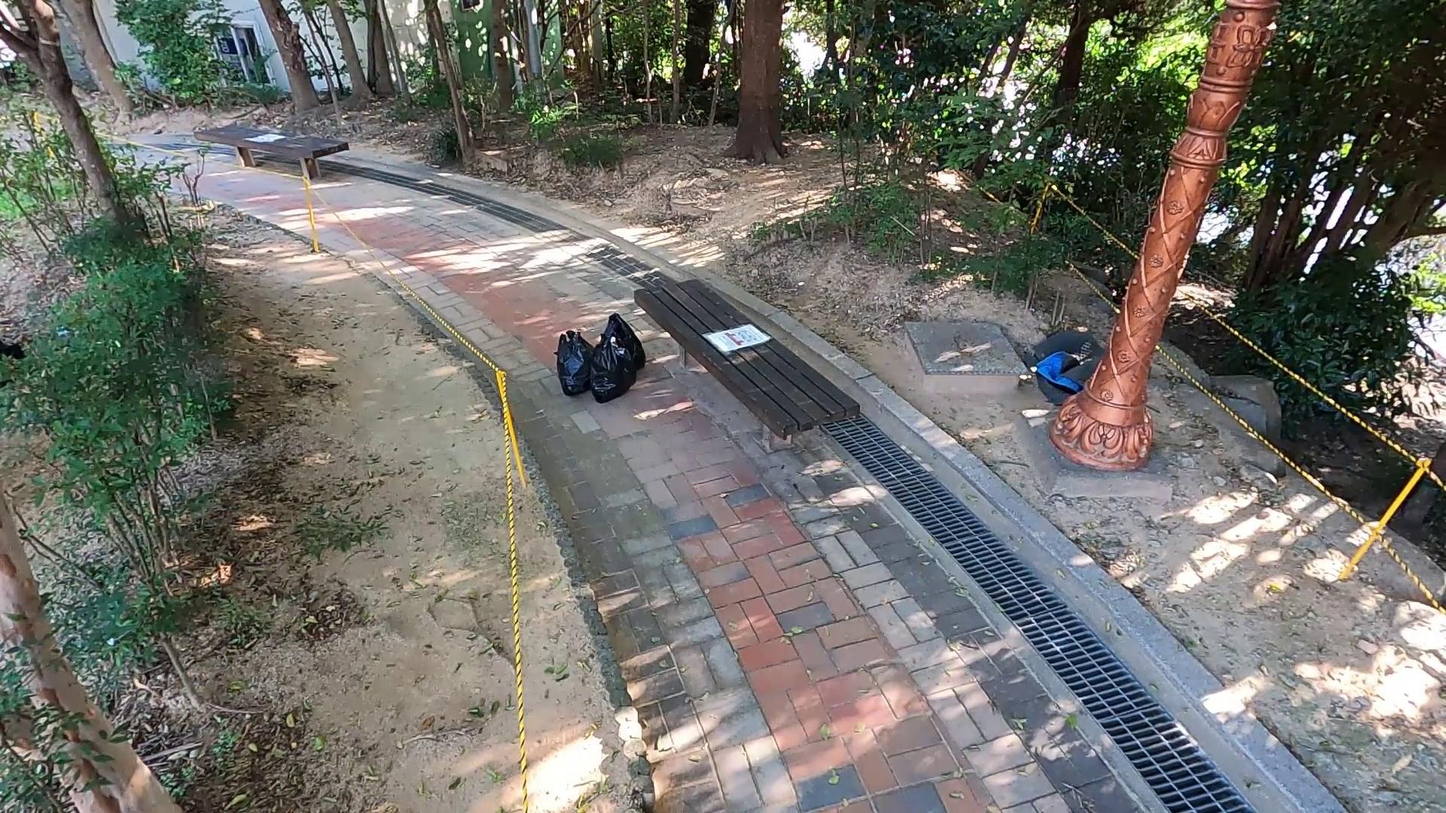trash: (1019, 324, 1109, 407), (587, 333, 638, 404), (594, 312, 646, 372), (555, 328, 600, 395)
